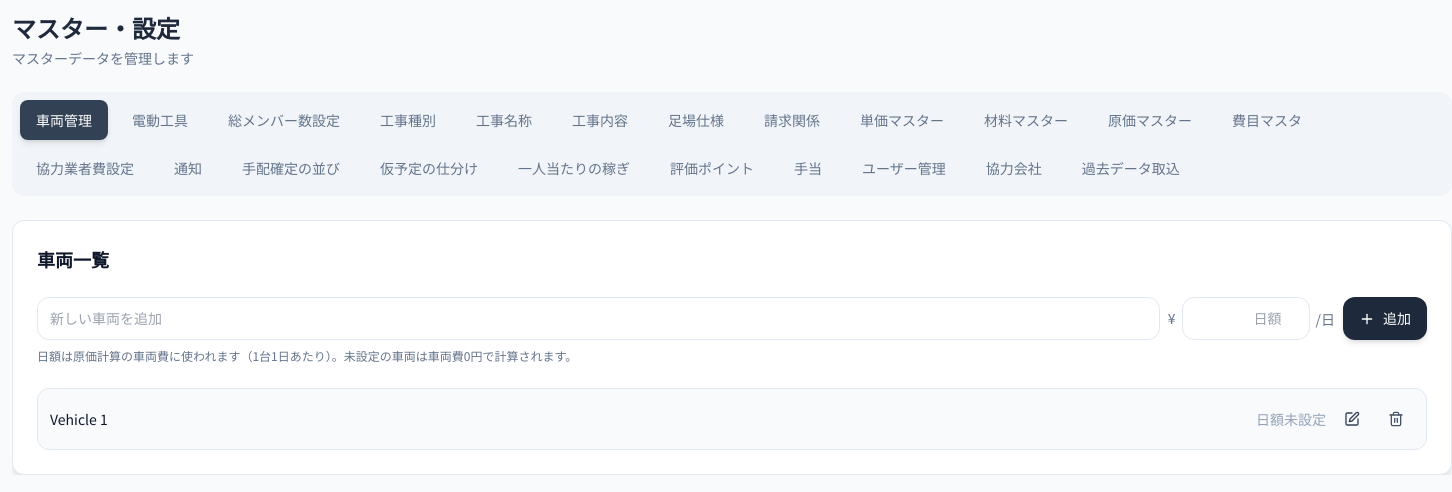
Scenario: SettingsPage › should handle edit mode cancellation
# Click edit button for Vehicle 1
Step 1. Click the button titled "編集" → (1352, 419), box [1334,401,1370,437]
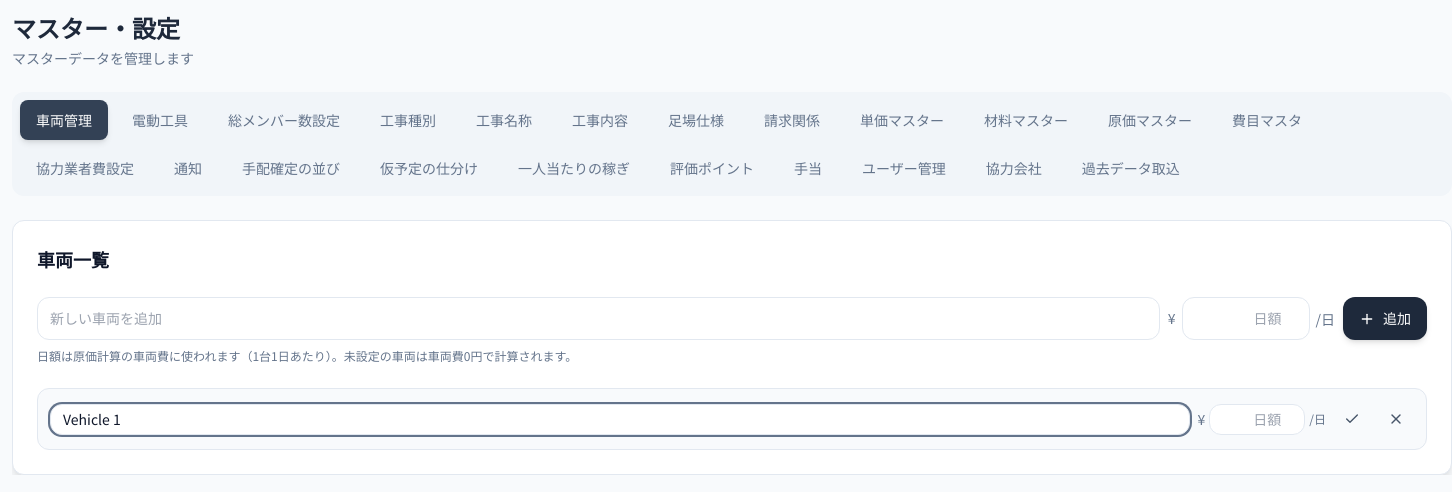
Expected: the field showing "Vehicle 1" is shown, [50,404,1190,434]
# Click cancel
Step 2. Click the button titled "キャンセル" → (1396, 419), box [1378,401,1414,437]
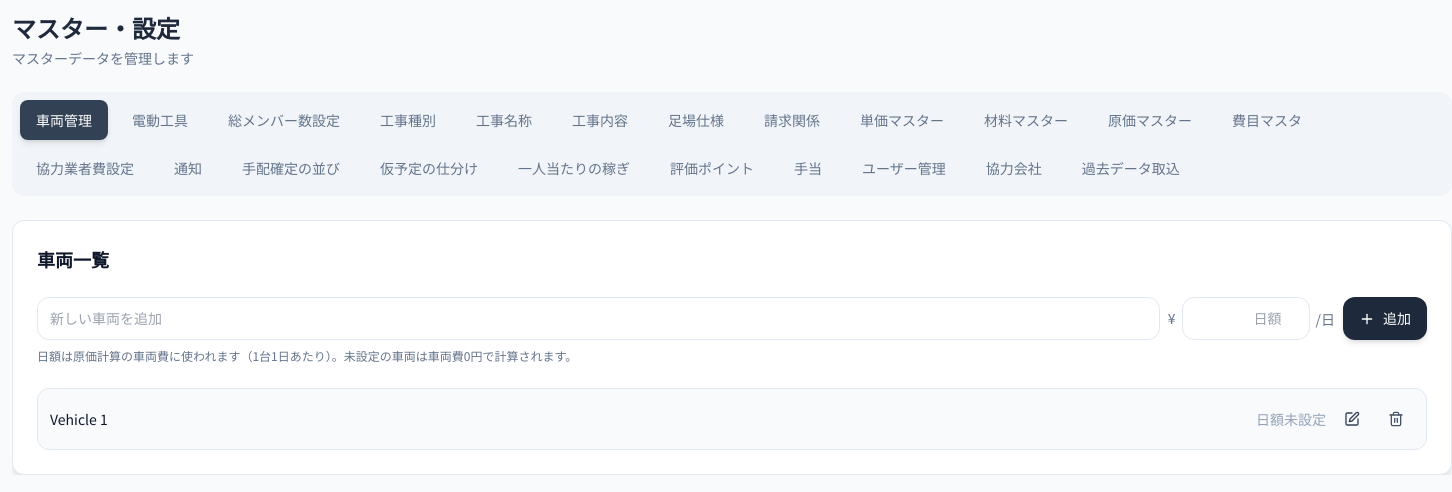
Expected: the text "Vehicle 1" is shown, [50,408,108,428]
